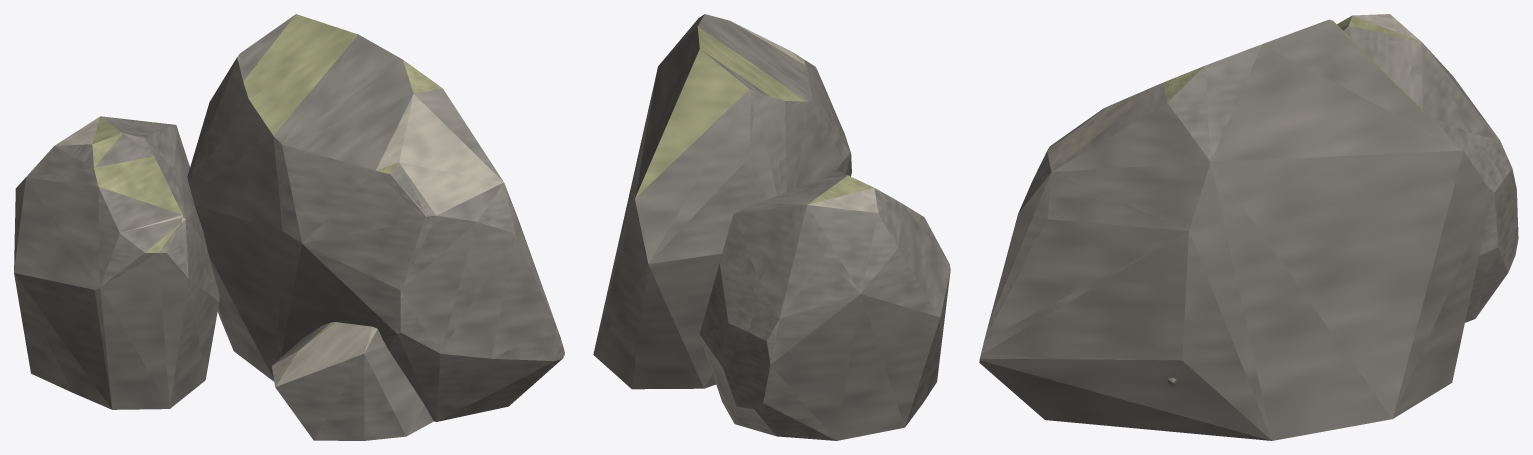
Rendered from rock_large_02.fbx.
3 views of the same model, side by side, from view 1: azimuth 30°, elevation 25°; view 2: azimuth 150°, elevation 25°; view 3: azimuth 270°, elevation 25° (orthographic). The views are drawn at different scales.
Parts seen in each view (by area): view 1: rock_large_02; view 2: rock_large_02; view 3: rock_large_02.
Part boxes in pixels (x1,y1,x2,y2): rock_large_02: (14,14,564,440); rock_large_02: (593,14,950,440); rock_large_02: (979,14,1518,440).
Size of the model in its own units: 3.22 by 2.51 by 3.45.
